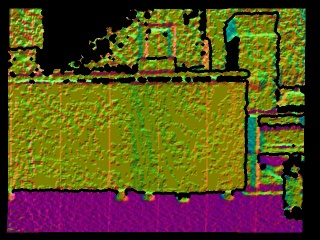station: (138, 21, 177, 71)
